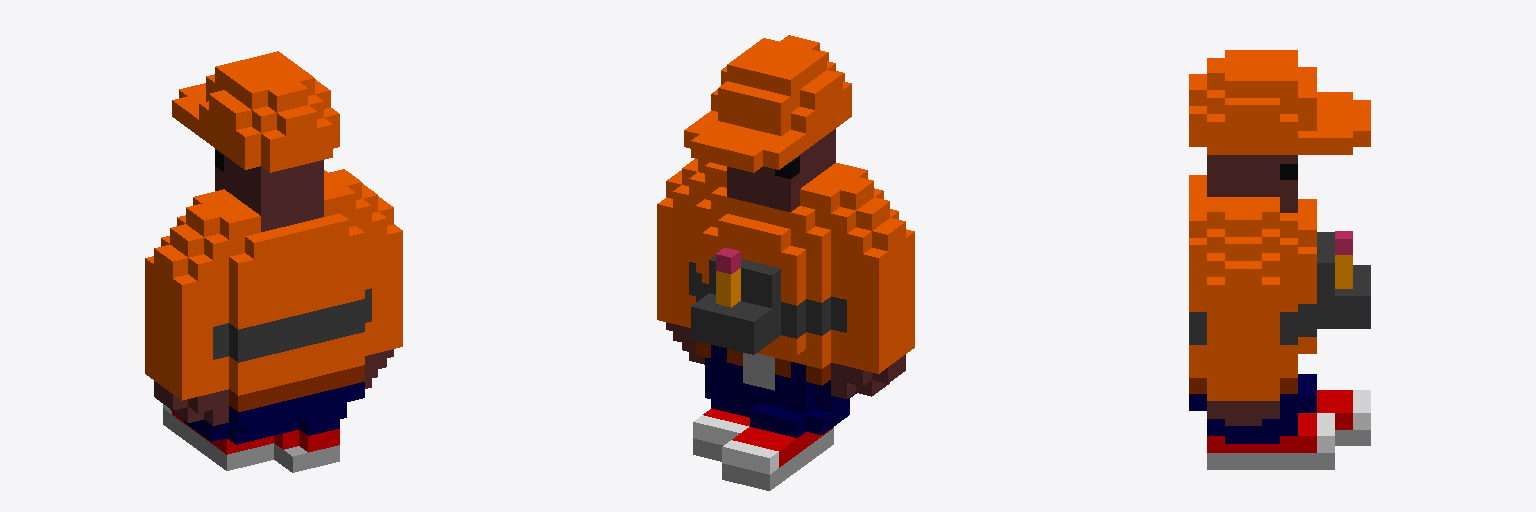
The picture shows the model from 3 angles: view 1: azimuth 30°, elevation 25°; view 2: azimuth 150°, elevation 25°; view 3: azimuth 270°, elevation 25°; orthographic projection.
Visible parts, largest first — view 1: object 1; view 2: object 1; view 3: object 1.
Boxes of the visible parts, x1,y1,x2,y2 form: object 1: [145, 51, 402, 472]; object 1: [657, 35, 914, 490]; object 1: [1189, 50, 1370, 469].
Size of the model in its own units: 1.4 by 2.3 by 1.
1 materials, 1 textured.